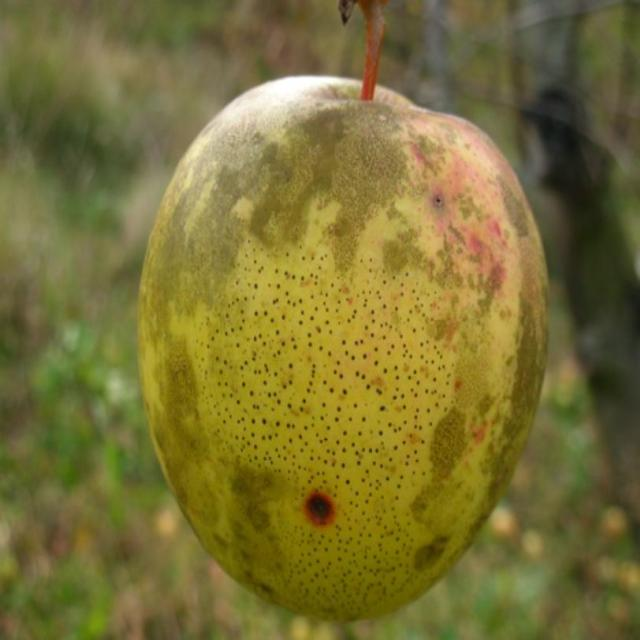Rotten Apple: (135, 36, 575, 630)
